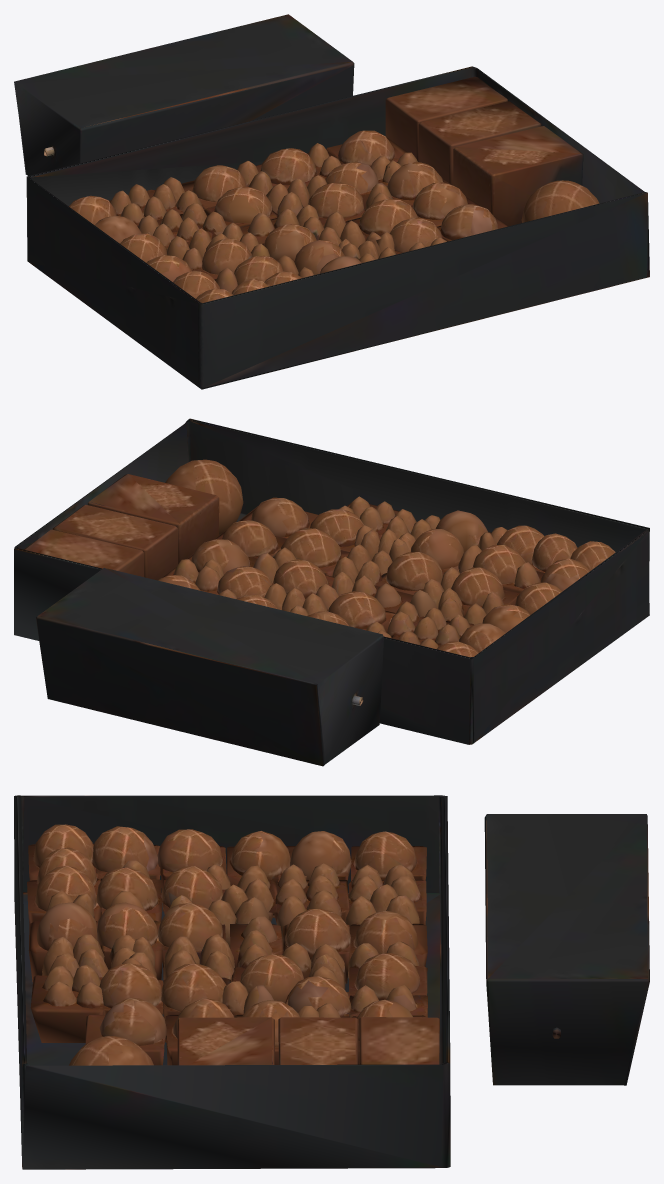
File: DEMO-P039.glb
3 renders of one model, top to bottom at view 1: azimuth 30°, elevation 25°; view 2: azimuth 150°, elevation 25°; view 3: azimuth 270°, elevation 25°, orthographic. The views are drawn at different scales.
Size of the model in its own units: 0.9804 by 0.2157 by 0.9706.
Materials: 1 (1 with a texture image).
